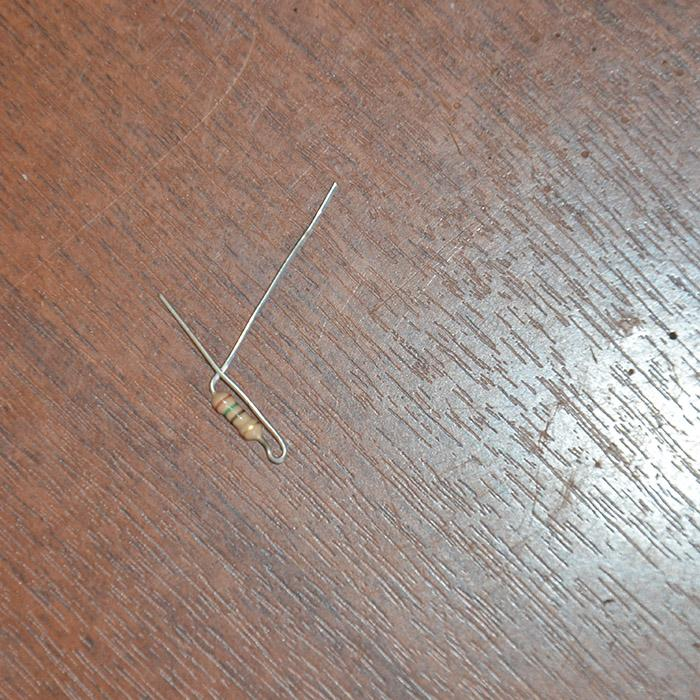resistor: (212, 389, 266, 444)
